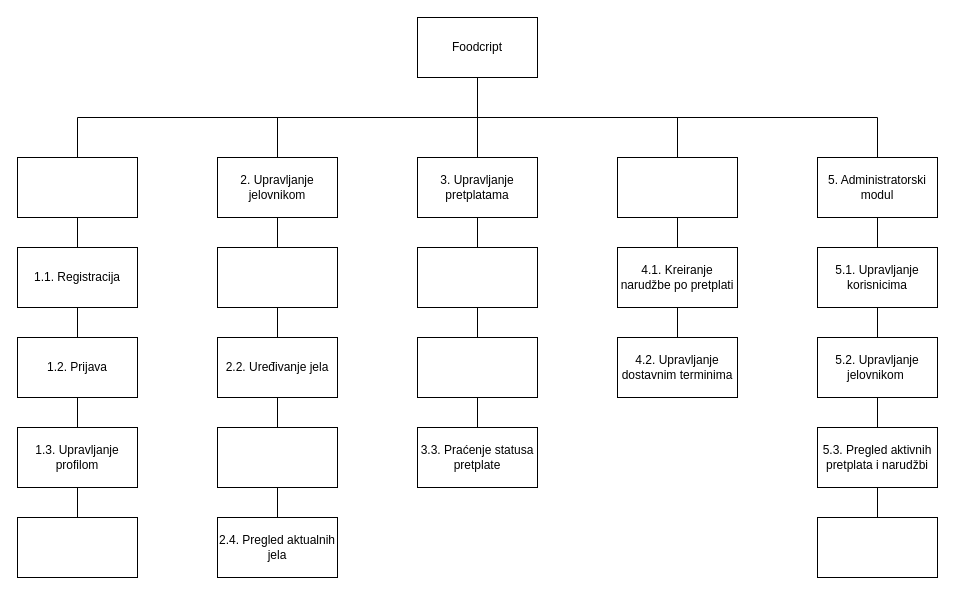
This 955x595 diagram has some shape labels left out. The centre of each missing label's shape, as x and y in pixels:
1. Upravljanje korisnicima: point (77, 187)
1.4. Upravljanje povijesti narudžbi: point (77, 547)
2.1. Dodavanje jela: point (277, 277)
2.3. Definiranje nutritivnih vrijednosti: point (277, 457)
3.1. Kreiranje pretplate: point (477, 277)
3.2. Izmjena/otkazivanje pretplate: point (477, 367)
4. Upravljanje narudžbama: point (677, 187)
5.4. Generiranje izvještaja: point (877, 547)
